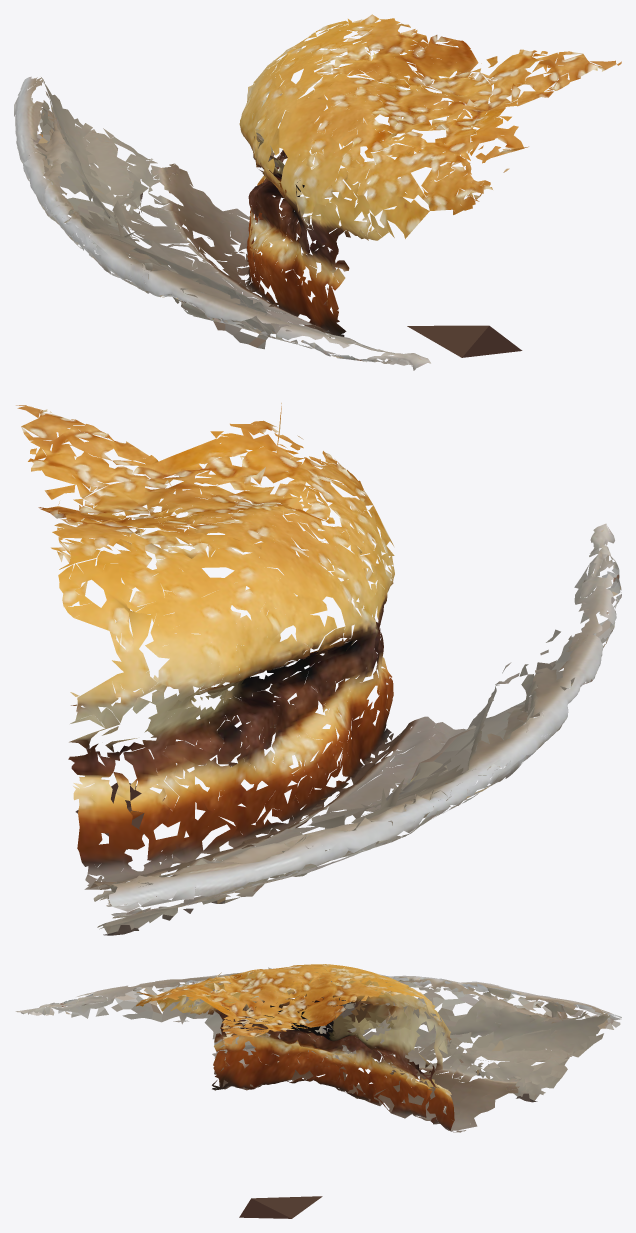
The model's file is panino.glb.
The picture shows the model from 3 angles, top to bottom: view 1: azimuth 30°, elevation 25°; view 2: azimuth 150°, elevation 25°; view 3: azimuth 270°, elevation 25°; orthographic projection. The views are drawn at different scales.
Visible parts, largest first — view 1: Stereo textured mesh_Material0_0.001, Stereo textured mesh_Material0_0.002, Stereo textured mesh, Stereo textured mesh_Material0_0.004, Stereo textured mesh_Material0_0.003; view 2: Stereo textured mesh, Stereo textured mesh_Material0_0.001, Stereo textured mesh_Material0_0.002, Stereo textured mesh_Material0_0.004, Stereo textured mesh_Material0_0.003; view 3: Stereo textured mesh_Material0_0.002, Stereo textured mesh_Material0_0.001, Stereo textured mesh_Material0_0.004, Stereo textured mesh, Stereo textured mesh_Material0_0.003.
Boxes of the visible parts, bbox=[...] form: Stereo textured mesh_Material0_0.001: bbox=[14, 14, 616, 352]; Stereo textured mesh_Material0_0.002: bbox=[15, 20, 570, 370]; Stereo textured mesh: bbox=[19, 30, 523, 367]; Stereo textured mesh_Material0_0.004: bbox=[20, 19, 621, 366]; Stereo textured mesh_Material0_0.003: bbox=[48, 146, 528, 331]; Stereo textured mesh: bbox=[73, 420, 613, 906]; Stereo textured mesh_Material0_0.001: bbox=[17, 406, 606, 911]; Stereo textured mesh_Material0_0.002: bbox=[28, 424, 621, 915]; Stereo textured mesh_Material0_0.004: bbox=[16, 405, 621, 935]; Stereo textured mesh_Material0_0.003: bbox=[105, 403, 555, 905]; Stereo textured mesh_Material0_0.002: bbox=[15, 964, 610, 1132]; Stereo textured mesh_Material0_0.001: bbox=[51, 964, 621, 1130]; Stereo textured mesh_Material0_0.004: bbox=[28, 964, 620, 1218]; Stereo textured mesh: bbox=[16, 964, 621, 1131]; Stereo textured mesh_Material0_0.003: bbox=[137, 986, 583, 1101].
Bounding box in the file's own units: 332 × 191 × 502.
Materials: 1 (1 with a texture image).
